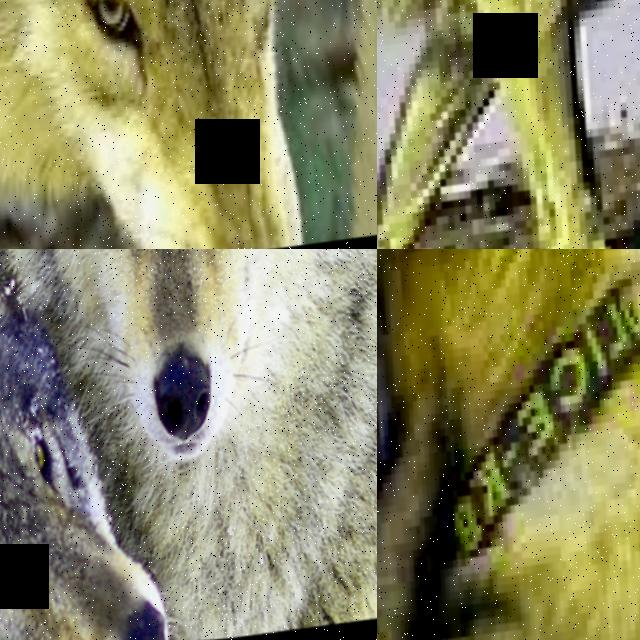dog: (377, 249, 640, 640)
wolf: (0, 249, 377, 640), (0, 0, 353, 249), (377, 0, 640, 249), (0, 249, 161, 640)
